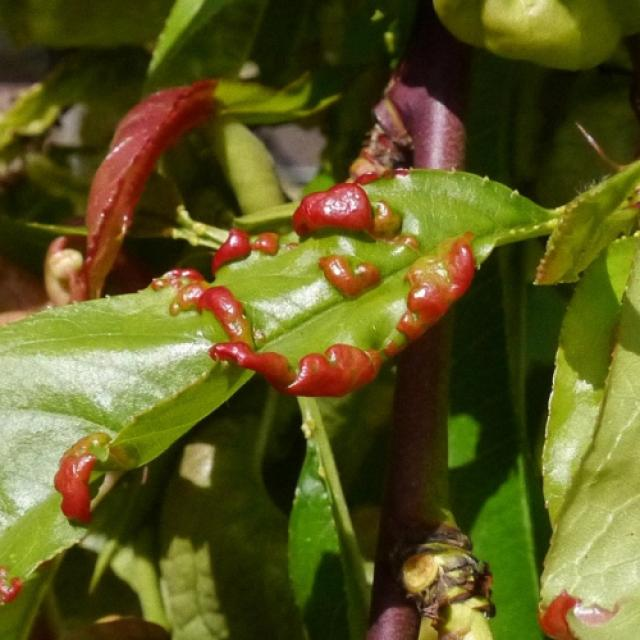peach_leaf_curl: (94, 142, 509, 410)
